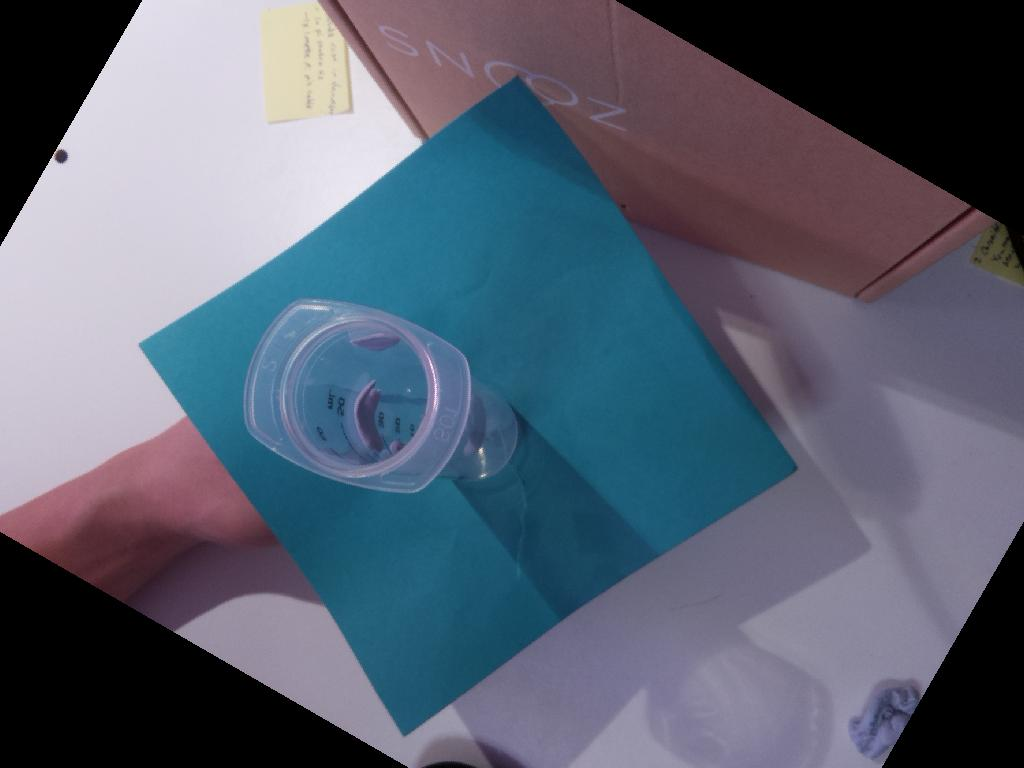dirty: (244, 297, 471, 494)
